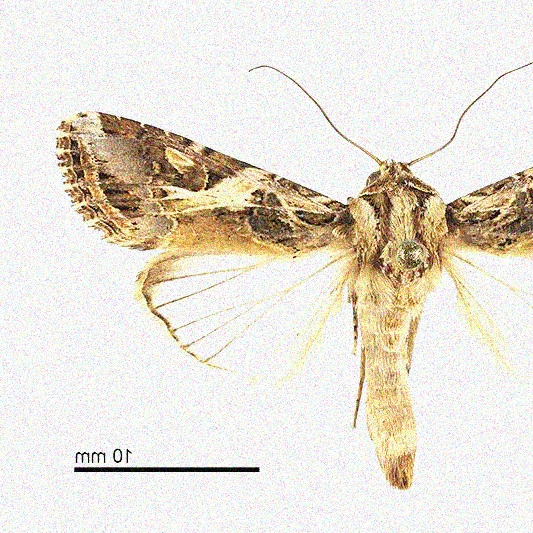Spodoptera litura: (53, 61, 532, 491)
